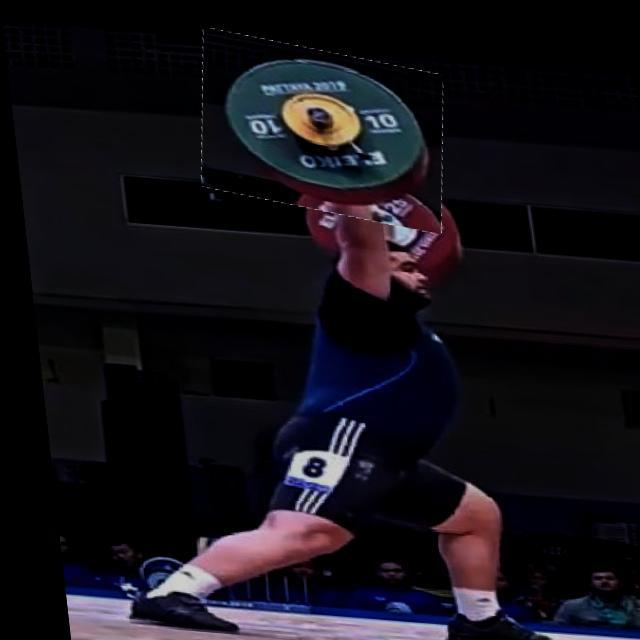barbell: (190, 31, 452, 222)
